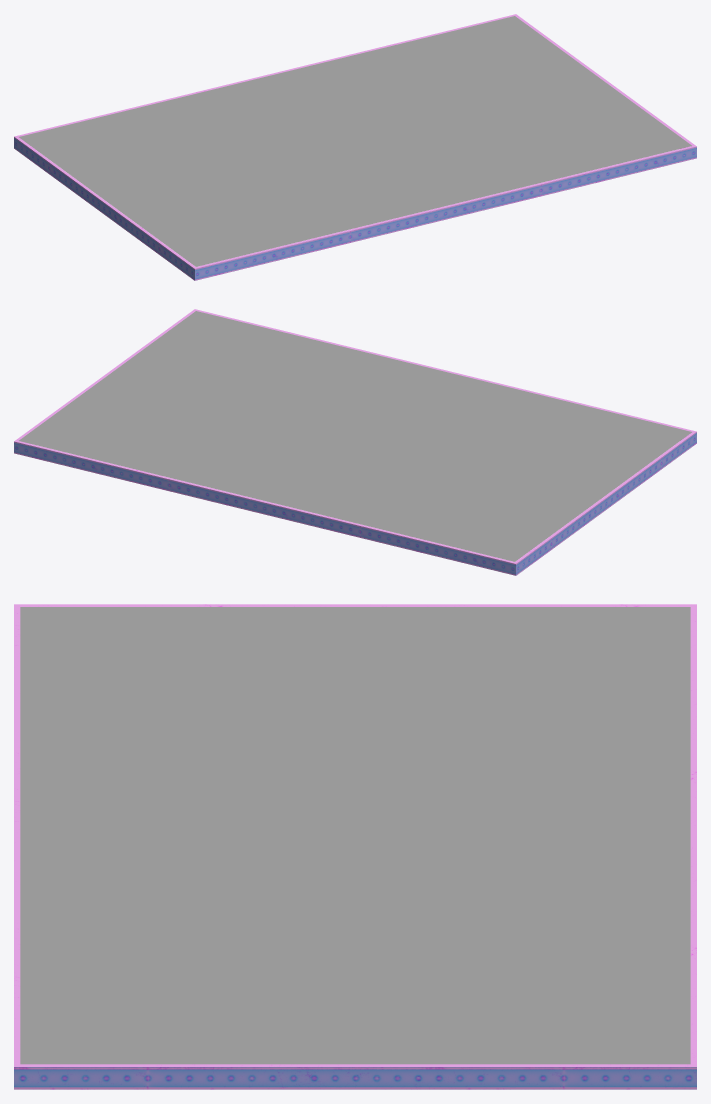
Rendered from Ramp_02_SM_Low.fbx.
The picture shows the model from 3 angles, top to bottom: view 1: azimuth 30°, elevation 25°; view 2: azimuth 150°, elevation 25°; view 3: azimuth 270°, elevation 25°; orthographic projection. The views are drawn at different scales.
Visible parts, largest first — view 1: GratedFloor, Side; view 2: GratedFloor, Side; view 3: GratedFloor, Side.
Part boxes in pixels (x1=…): GratedFloor: x1=19, y1=16, x2=691, y2=266; Side: x1=14, y1=14, x2=696, y2=280; GratedFloor: x1=19, y1=311, x2=691, y2=561; Side: x1=14, y1=309, x2=696, y2=575; GratedFloor: x1=20, y1=607, x2=690, y2=1064; Side: x1=14, y1=604, x2=696, y2=1089.
Bounding box in the file's own units: 769 × 17.56 × 480.
2 materials, 1 textured.
